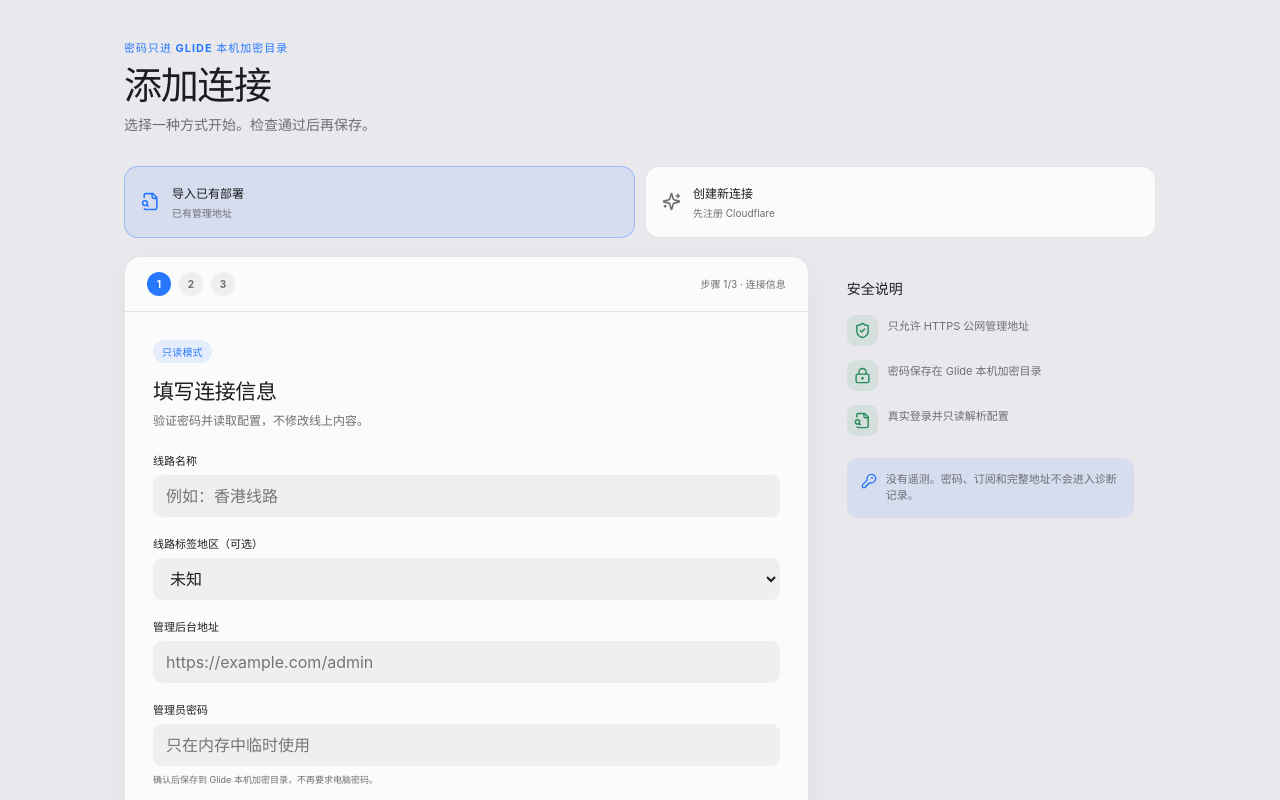
SetupPage › shows a password-specific error returned by the desktop adapter
Type "真实线路" into the field labelled "线路名称" at (466, 496), box x1=153 y1=475 x2=780 y2=517
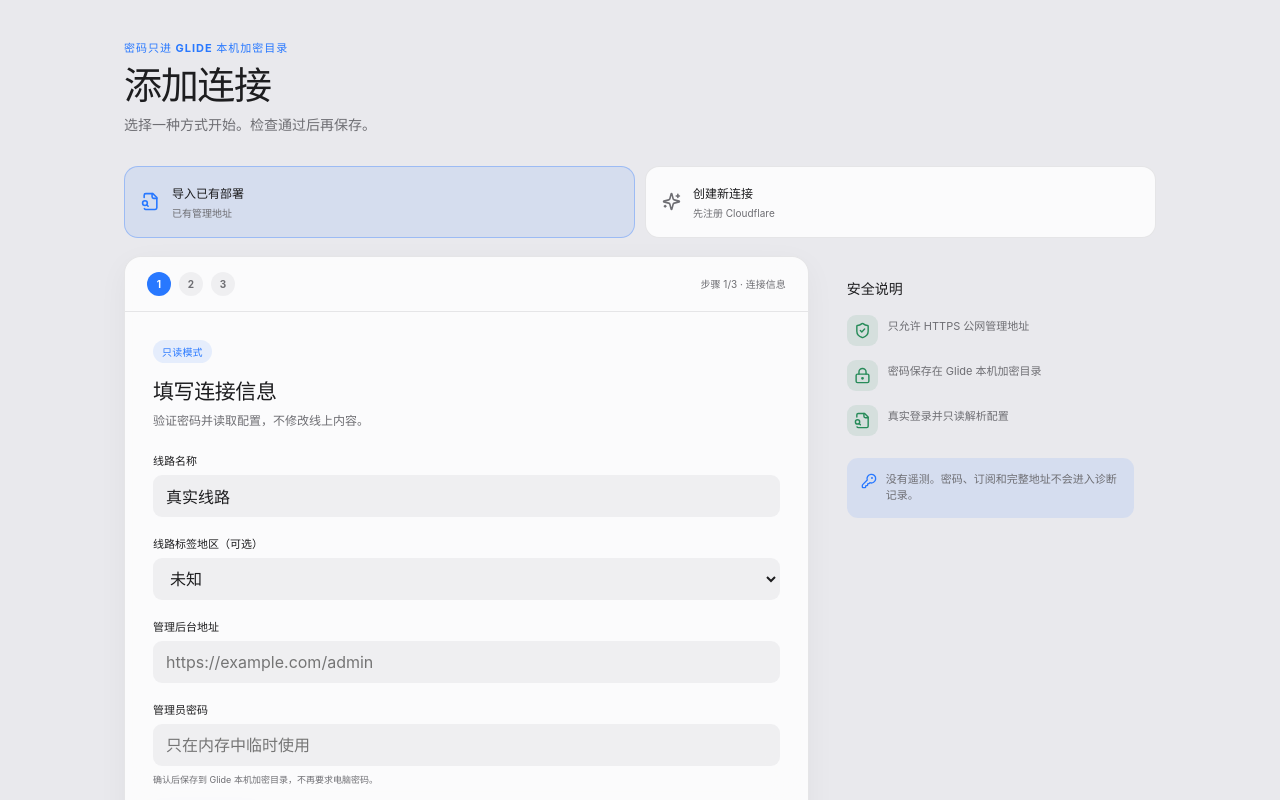
Type "https://private.example.com/admin" into the field labelled "管理后台地址" at (466, 662), box x1=153 y1=641 x2=780 y2=683
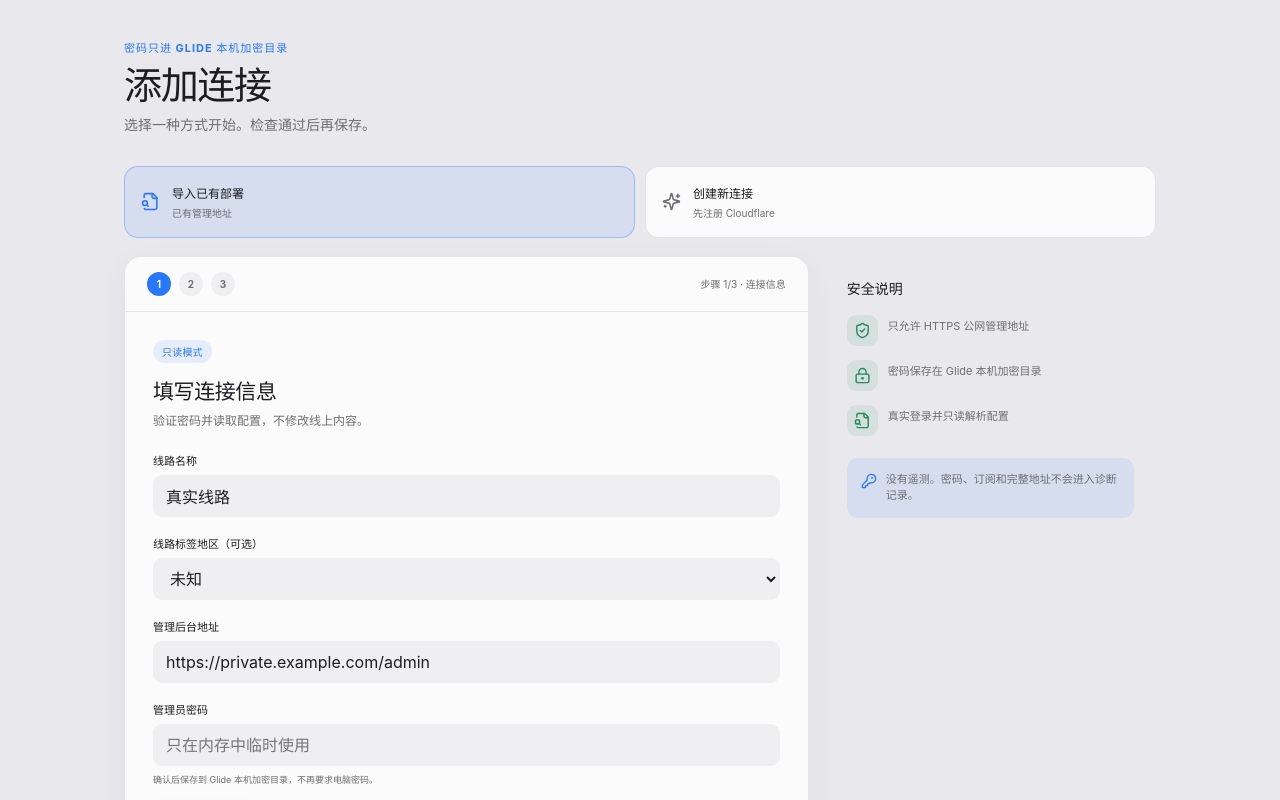
Type "local-test-password" into the password field labelled "管理员密码 确认后保存到 Glide 本机加密目录，不再要求电脑密码。" at (466, 745), box x1=153 y1=724 x2=780 y2=766
(page scrolled)
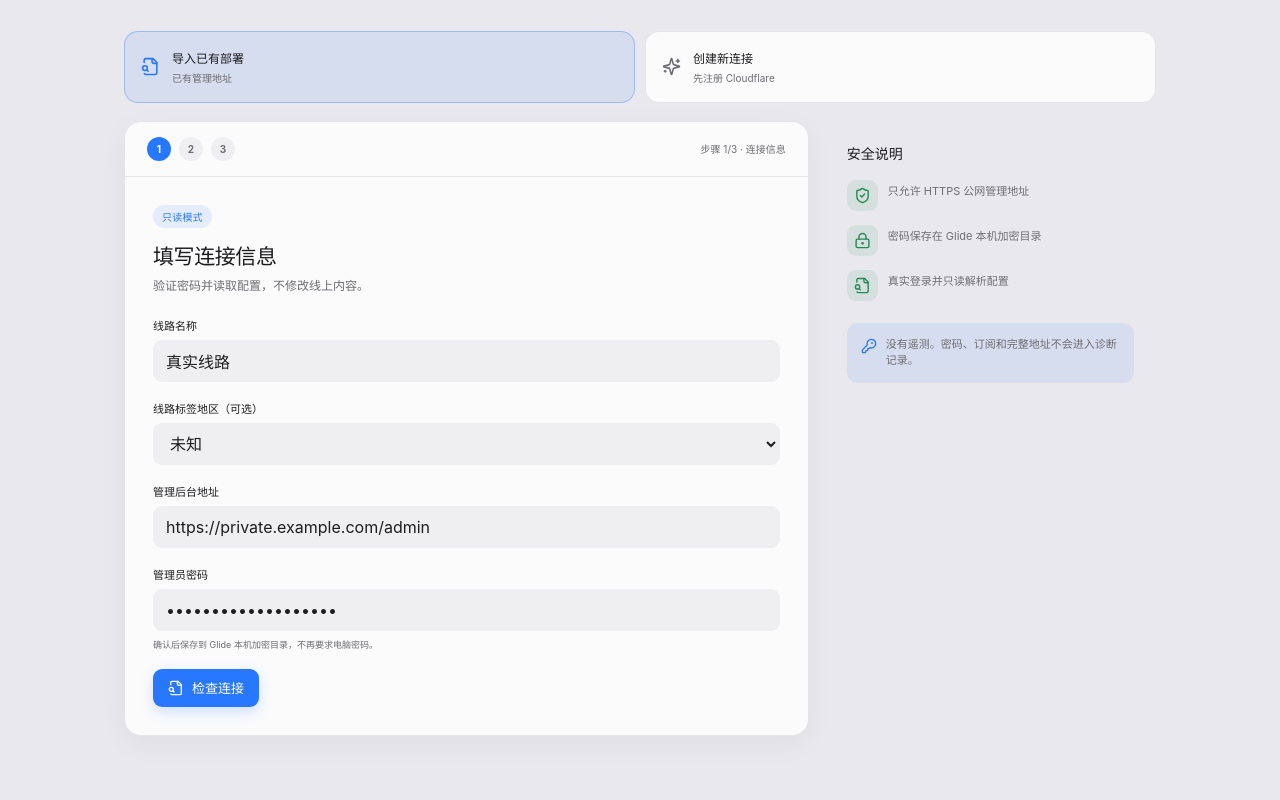
Click the button "检查连接" at (206, 688), box x1=153 y1=669 x2=259 y2=707
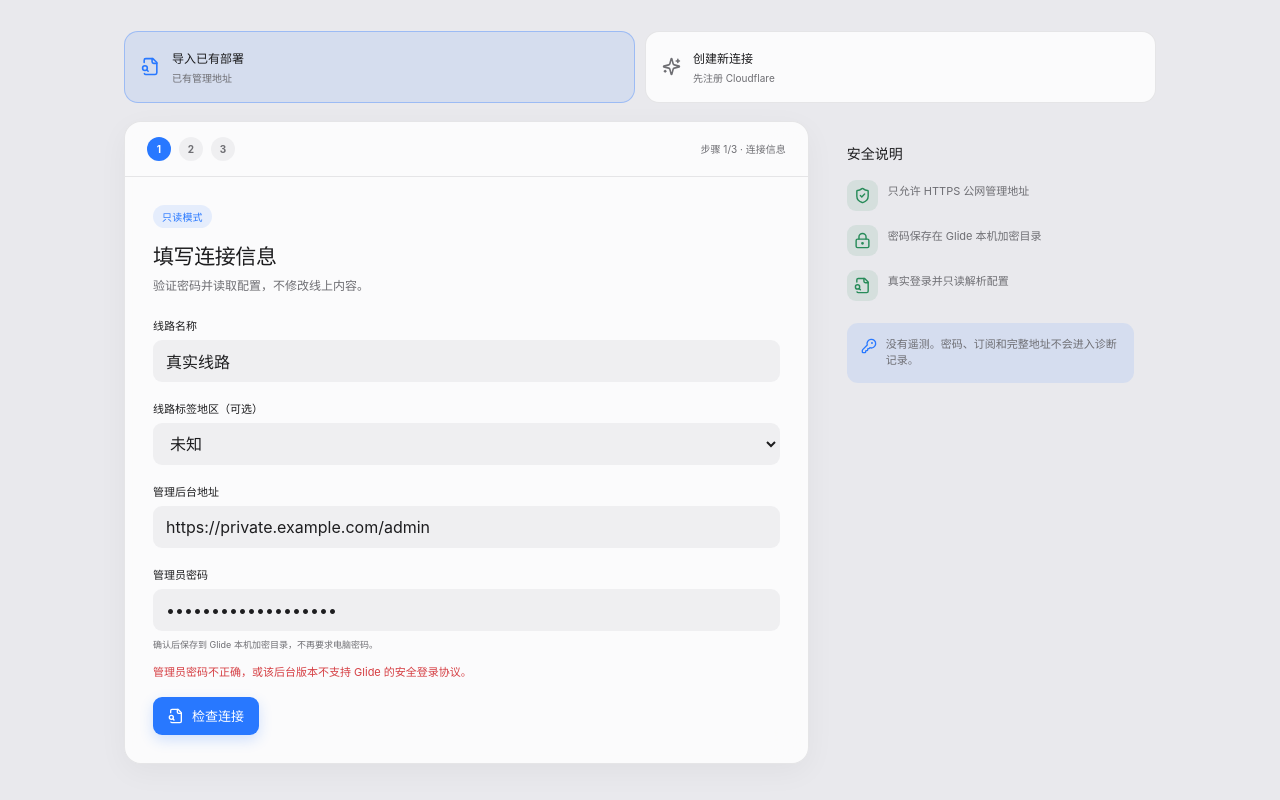
Result: the message shows "管理员密码不正确" at x1=153 y1=665 x2=472 y2=679
